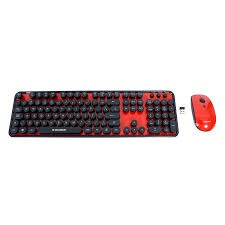keyboard: (0, 83, 187, 147)
mouse: (183, 89, 216, 137)
